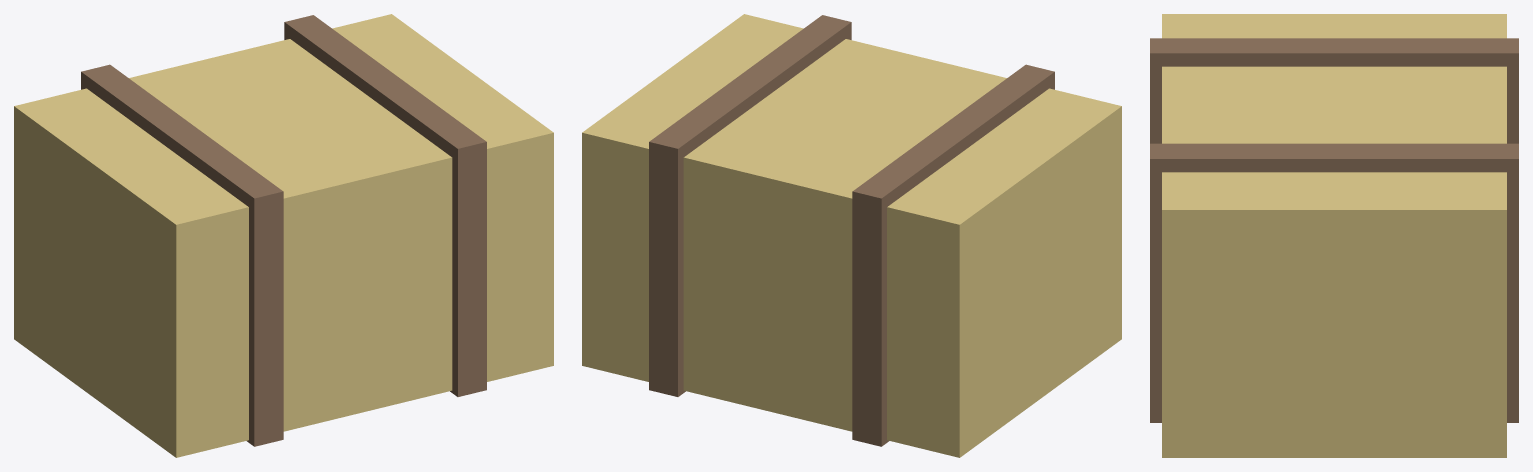
File: hay_bundle.glb
3 renders of one model, left to right at view 1: azimuth 30°, elevation 25°; view 2: azimuth 150°, elevation 25°; view 3: azimuth 270°, elevation 25°, orthographic. The views are drawn at different scales.
Visible parts, largest first — view 1: hay_bundle_0, hay_bundle_1; view 2: hay_bundle_0, hay_bundle_1; view 3: hay_bundle_0, hay_bundle_1.
Boxes of the visible parts, bbox=[...] form: hay_bundle_0: bbox=[14, 14, 553, 457]; hay_bundle_1: bbox=[81, 15, 486, 446]; hay_bundle_0: bbox=[582, 14, 1121, 457]; hay_bundle_1: bbox=[649, 15, 1054, 446]; hay_bundle_0: bbox=[1162, 14, 1506, 457]; hay_bundle_1: bbox=[1150, 38, 1518, 422].
Bounding box in the file's own units: 0.78 × 0.49 × 0.62.
